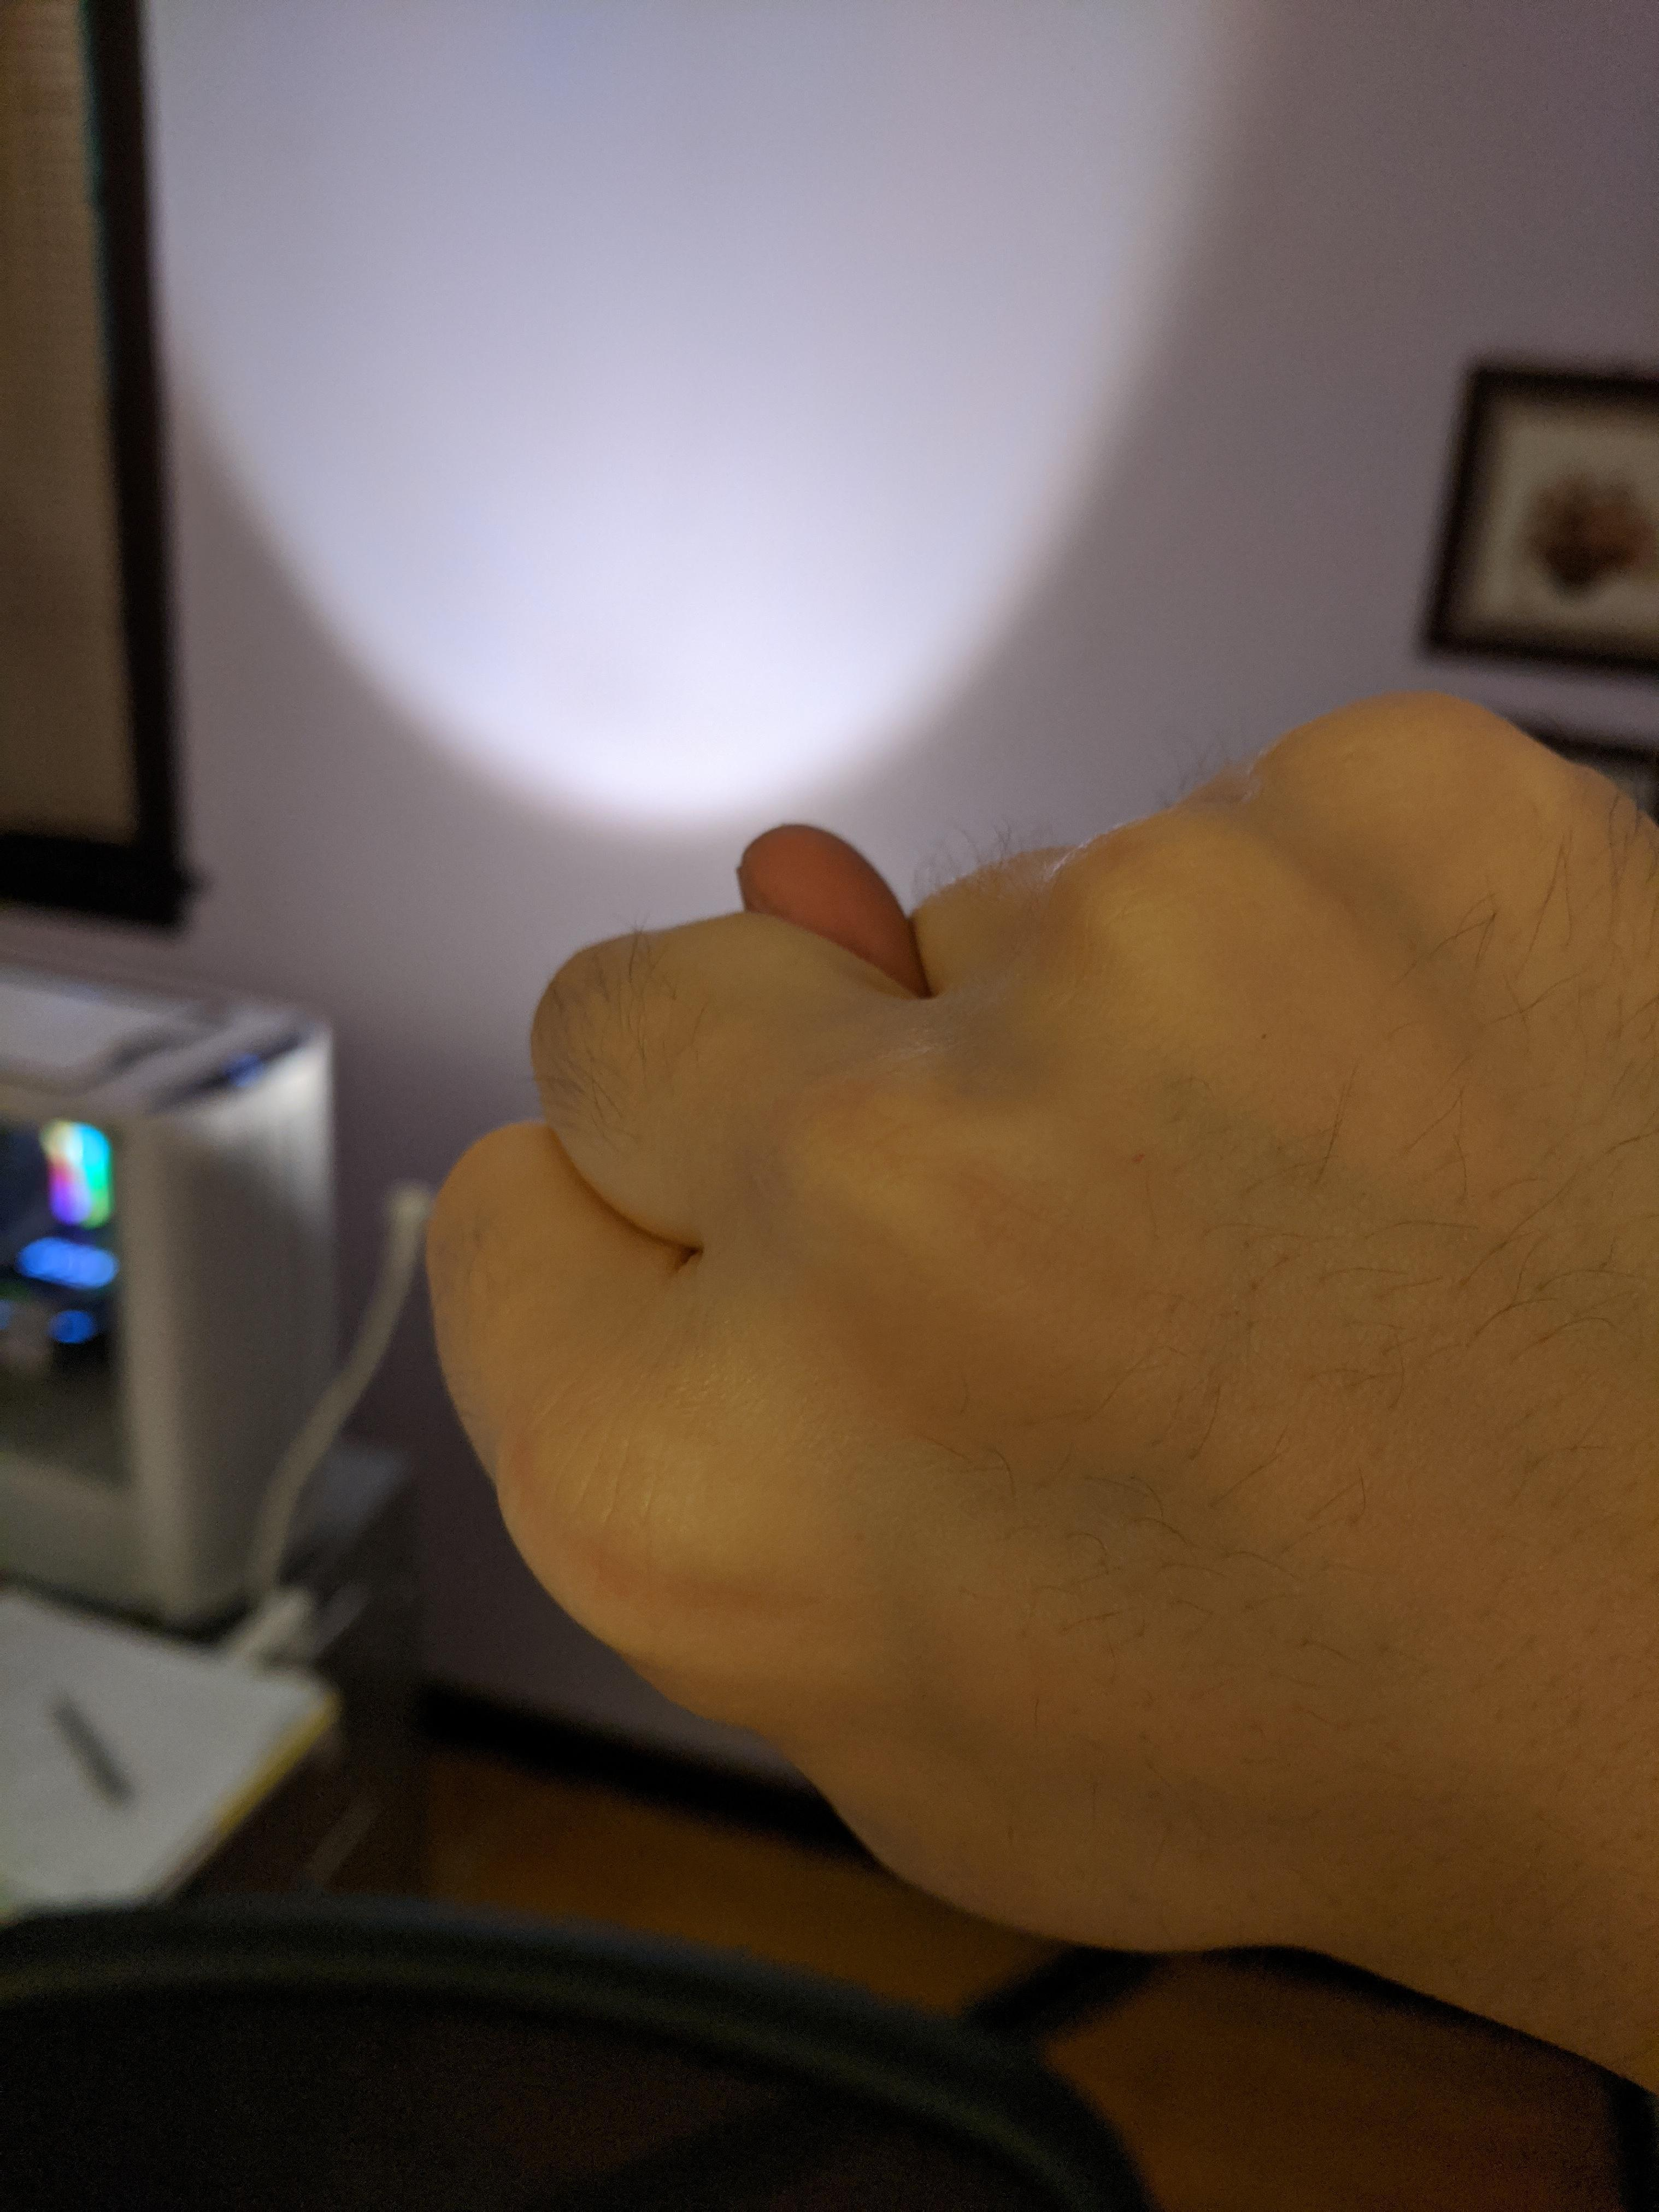N: (402, 675, 1659, 1993)
